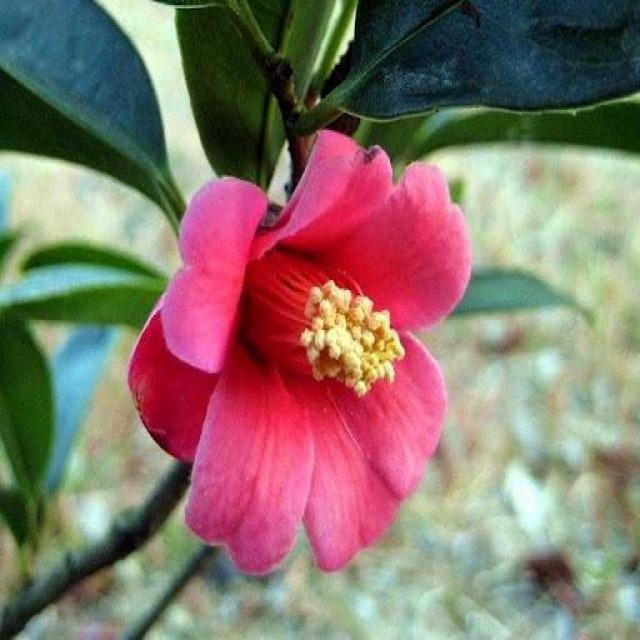organic waste: (135, 142, 476, 586)
